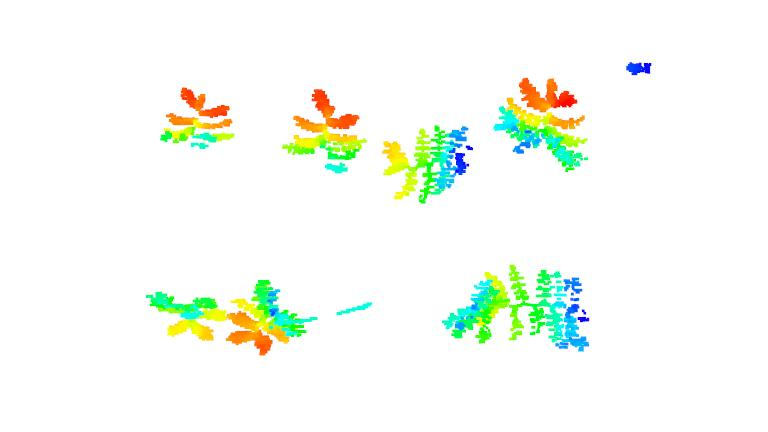chickpea: (441, 264, 590, 357), (495, 76, 587, 173), (379, 123, 477, 206), (279, 85, 365, 174), (220, 277, 311, 354), (140, 286, 230, 347), (155, 84, 235, 151)
